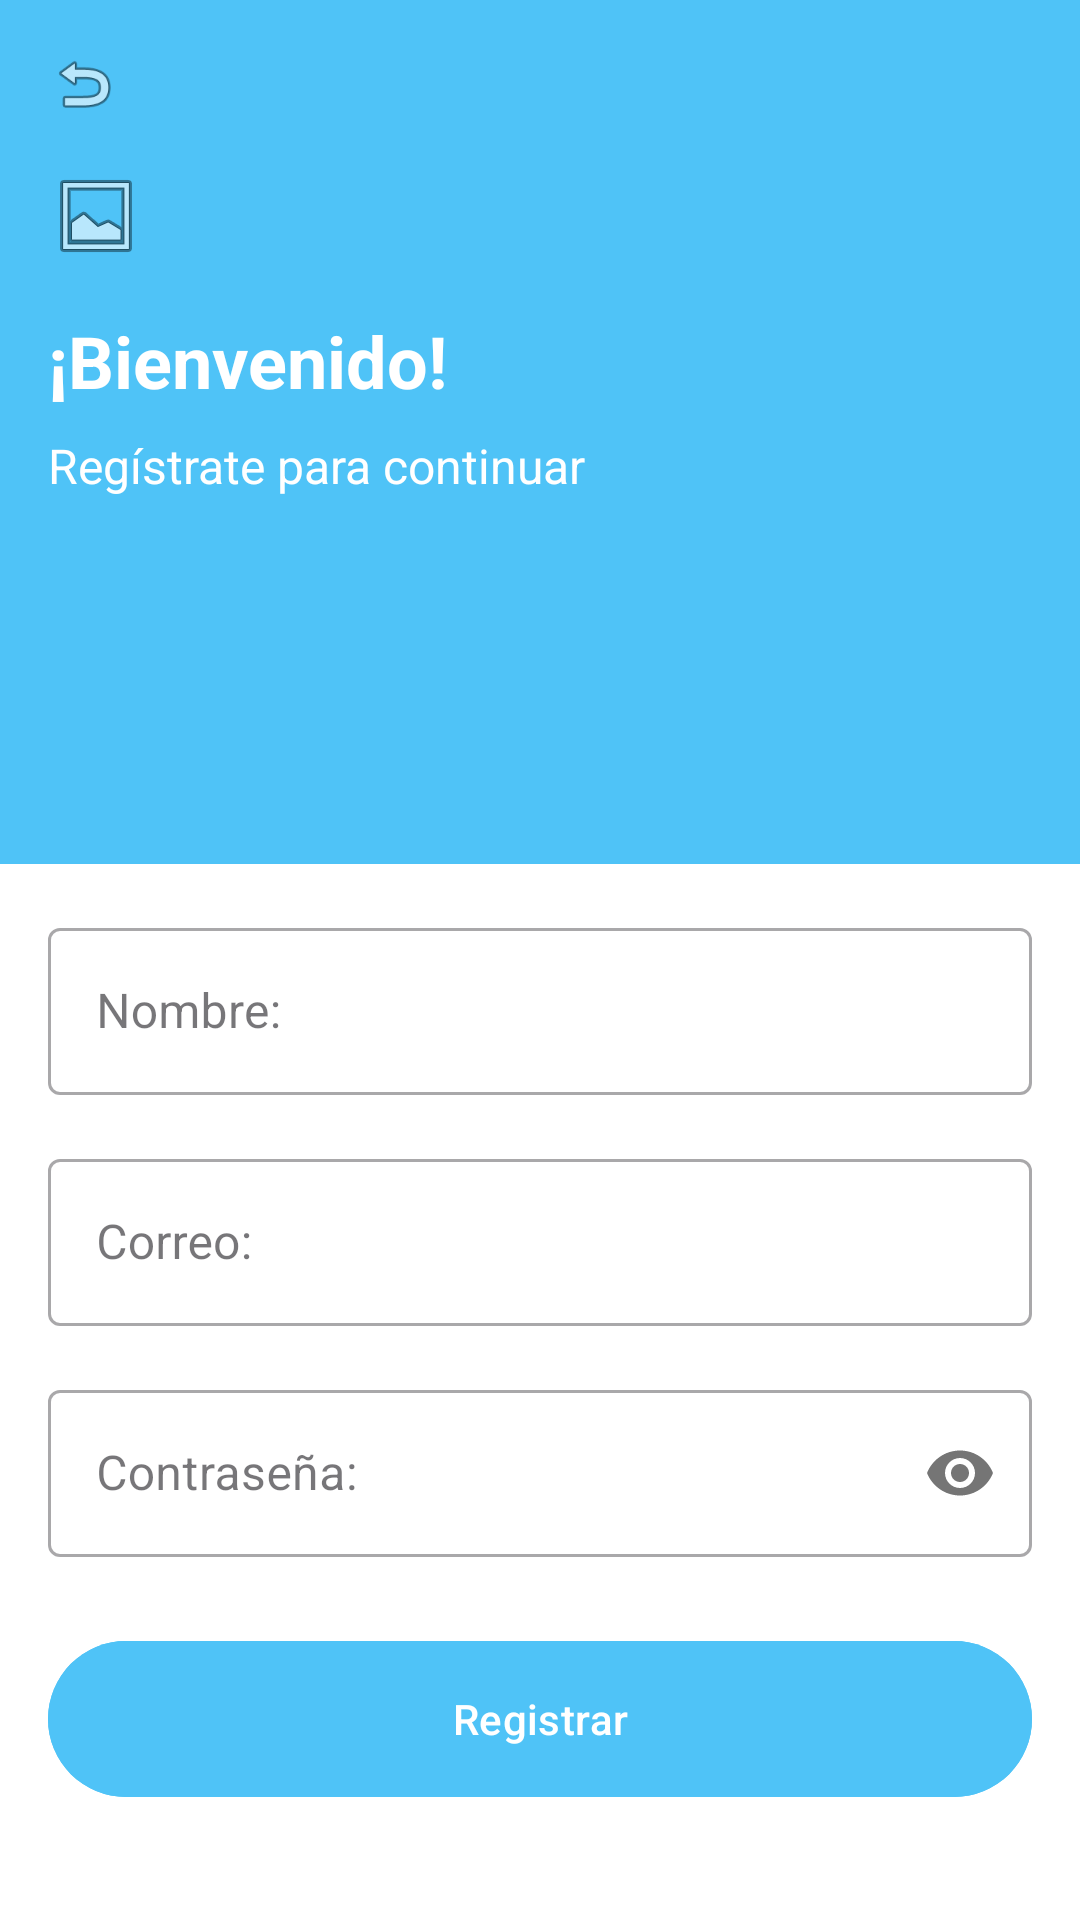

Icons on this 1080w x 1920h Android screen, each with the point to tap as [x,y]:
gallery: [96,216]
revert: [85,84]
